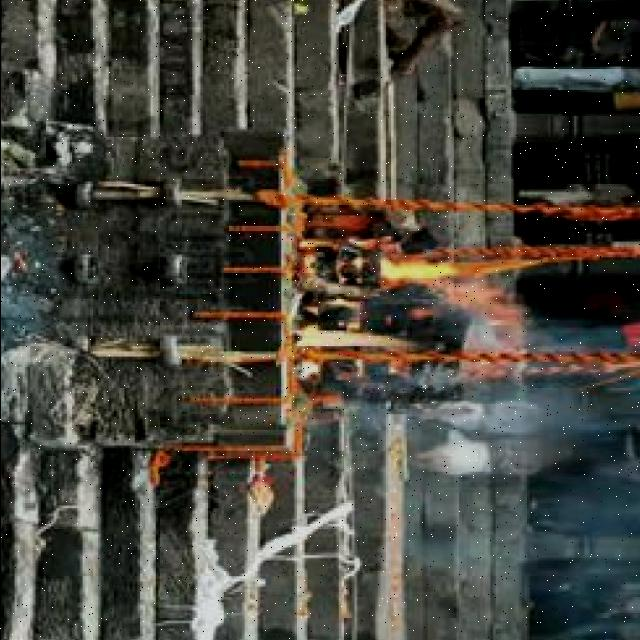fire: (372, 248, 527, 319), (290, 318, 414, 374)
